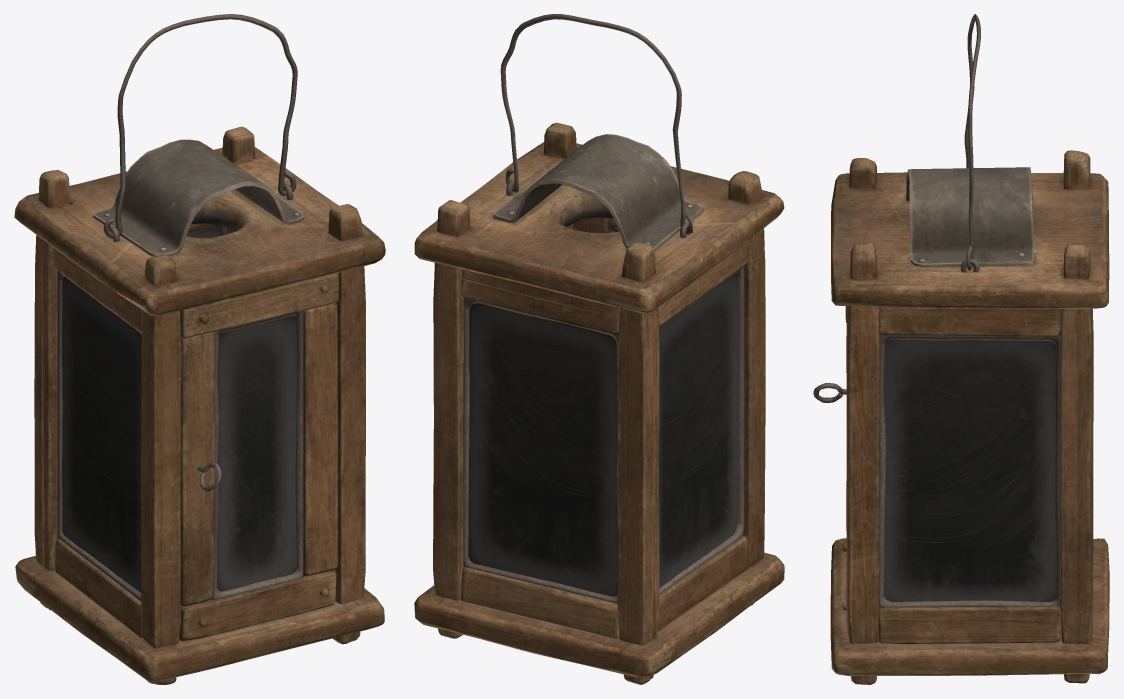
File: wooden_lantern_01.glb
3 renders of one model, left to right at view 1: azimuth 30°, elevation 25°; view 2: azimuth 150°, elevation 25°; view 3: azimuth 270°, elevation 25°, orthographic.
Parts seen in each view (by area): view 1: wooden_lantern_01, wooden_lantern_01_door, wooden_lantern_01_handle; view 2: wooden_lantern_01, wooden_lantern_01_handle, wooden_lantern_01_door; view 3: wooden_lantern_01, wooden_lantern_01_handle, wooden_lantern_01_door.
Boxes of the visible parts, <box> form: wooden_lantern_01: <box>14,126,385,684</box>; wooden_lantern_01_door: <box>179,272,339,641</box>; wooden_lantern_01_handle: <box>103,14,297,238</box>; wooden_lantern_01: <box>414,122,784,684</box>; wooden_lantern_01_handle: <box>500,14,692,234</box>; wooden_lantern_01_door: <box>573,217,618,233</box>; wooden_lantern_01: <box>830,150,1109,684</box>; wooden_lantern_01_handle: <box>964,14,980,270</box>; wooden_lantern_01_door: <box>813,306,847,610</box>.
Size of the model in its own units: 0.2211 by 0.5301 by 0.2347.
Materials: 2 (2 with a texture image).
